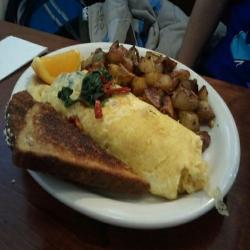bread: (5, 94, 152, 204)
fries: (91, 41, 221, 141)
omelette: (23, 62, 209, 198)
